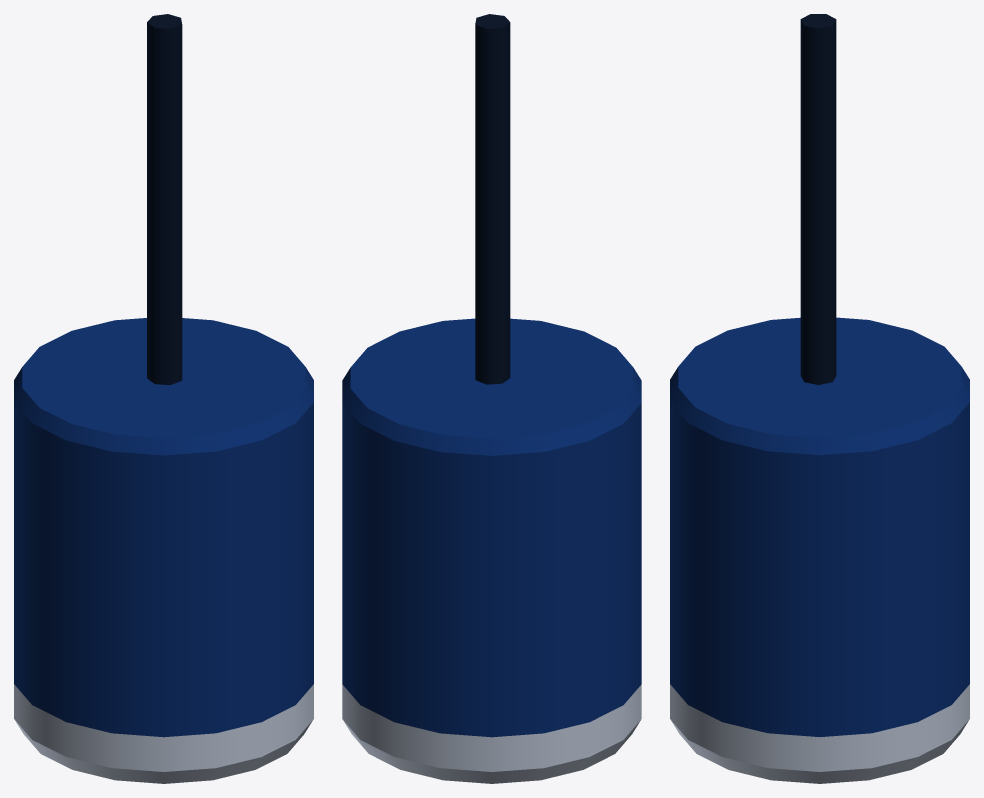
File: Module_Ss_asset_Li_3.FBX
The picture shows the model from 3 angles, left to right: view 1: azimuth 30°, elevation 25°; view 2: azimuth 150°, elevation 25°; view 3: azimuth 270°, elevation 25°; orthographic projection.
Parts seen in each view (by area): view 1: Module_Ss_asset_Li_3 (×2); view 2: Module_Ss_asset_Li_3 (×2); view 3: Module_Ss_asset_Li_3 (×2).
Boxes of the visible parts, <box> form: Module_Ss_asset_Li_3 (×2): <box>14,14,313,783</box>; Module_Ss_asset_Li_3 (×2): <box>342,14,641,783</box>; Module_Ss_asset_Li_3 (×2): <box>670,14,969,783</box>.
Bounding box in the file's own units: 19.73 × 52.3 × 19.43.
